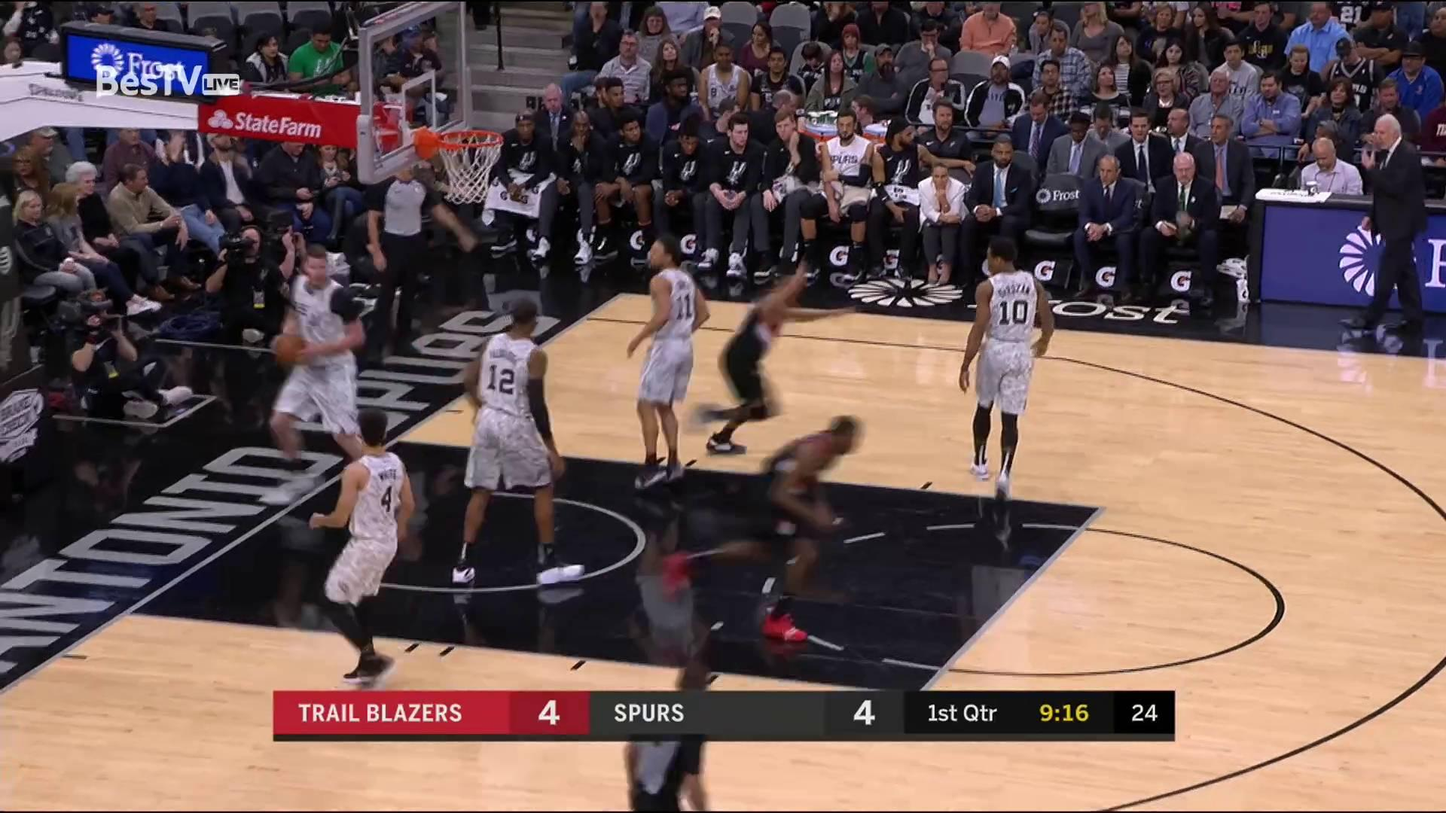basketball: (269, 334, 305, 368)
